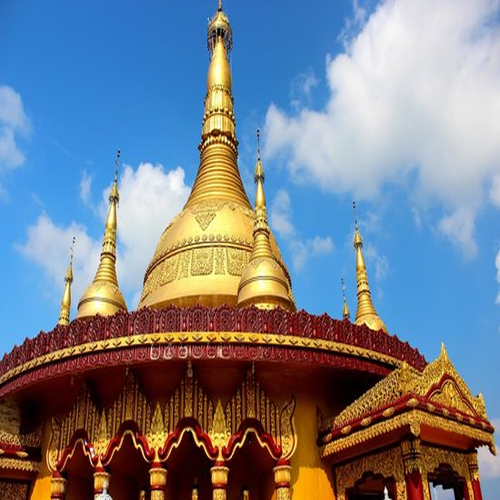Temple: (19, 7, 484, 486)
